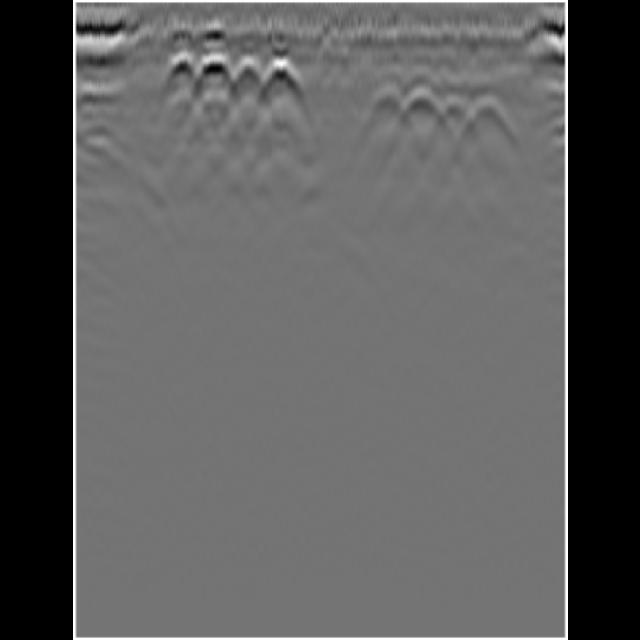hyperbola: (153, 49, 203, 93), (396, 80, 442, 126), (256, 54, 298, 98), (466, 92, 512, 130), (366, 78, 409, 118), (194, 50, 232, 94), (434, 88, 476, 125), (230, 52, 268, 92)
